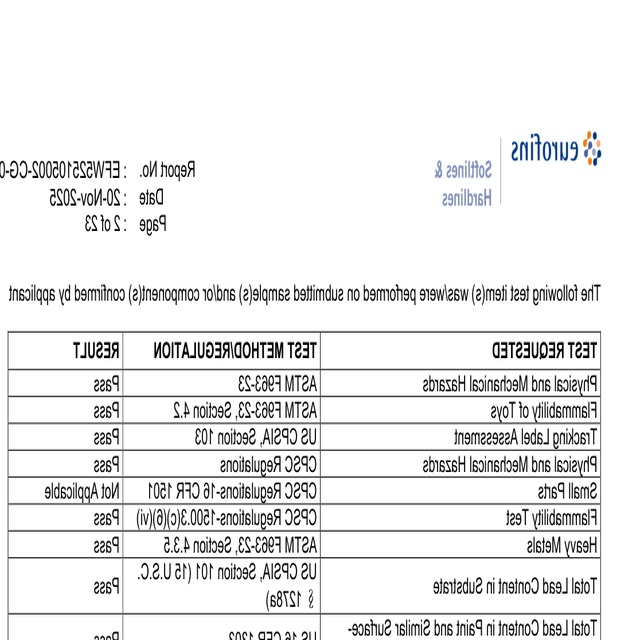eurofins: (510, 128, 606, 173)
